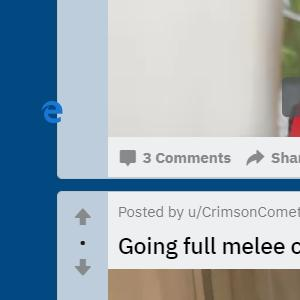edge: (41, 101, 63, 124)
